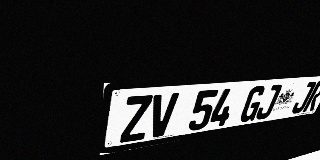4: (207, 88, 239, 128)
5: (187, 89, 219, 132)
G: (238, 85, 268, 123)
J: (254, 84, 283, 120), (290, 81, 317, 114)
R: (302, 80, 320, 112)
V: (146, 93, 179, 139)
Z: (120, 95, 153, 143)
